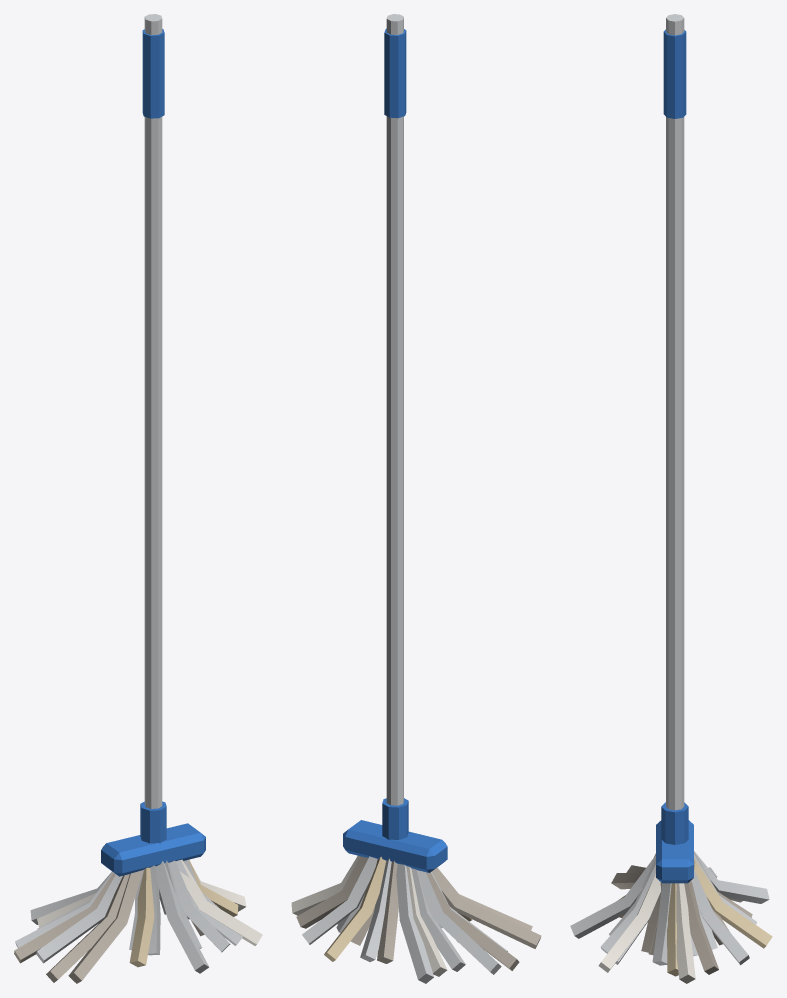
Rendered from SC_Home_Mop.gltf.
The picture shows the model from 3 angles, left to right: view 1: azimuth 30°, elevation 25°; view 2: azimuth 150°, elevation 25°; view 3: azimuth 270°, elevation 25°; orthographic projection.
Parts seen in each view (by area): view 1: SC_Home_Mop; view 2: SC_Home_Mop; view 3: SC_Home_Mop.
Boxes of the visible parts, x1,y1,x2,y2 form: SC_Home_Mop: (14, 14, 262, 983); SC_Home_Mop: (291, 14, 541, 983); SC_Home_Mop: (570, 14, 772, 983).
Size of the model in its own units: 0.3474 by 1.34 by 0.2665.
Materials: 1 (1 with a texture image).
